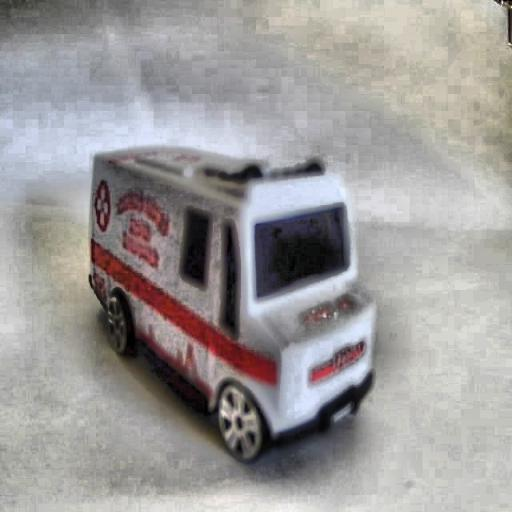ambulance: (88, 145, 374, 464)
